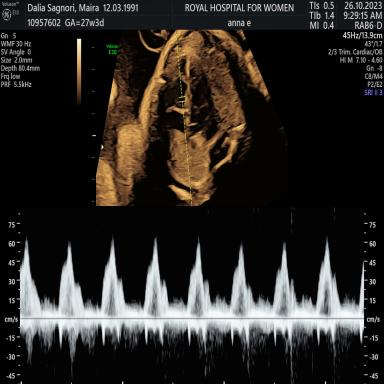Ultrasound-Waves: (25, 212, 360, 384)
